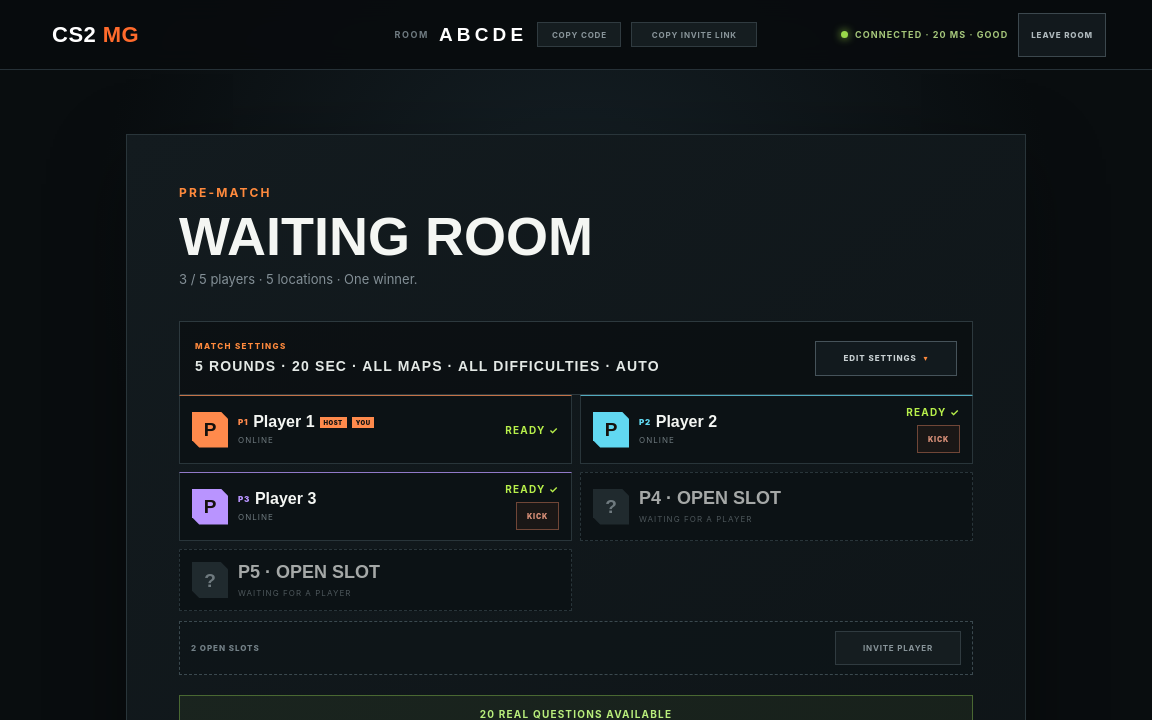
Test: RoomPage multiplayer lobby wiring › asks for confirmation and sends one player:kick request for the selected target
Click the button named "Kick Player 2". click: (938, 439)
box: [917, 425, 960, 453]
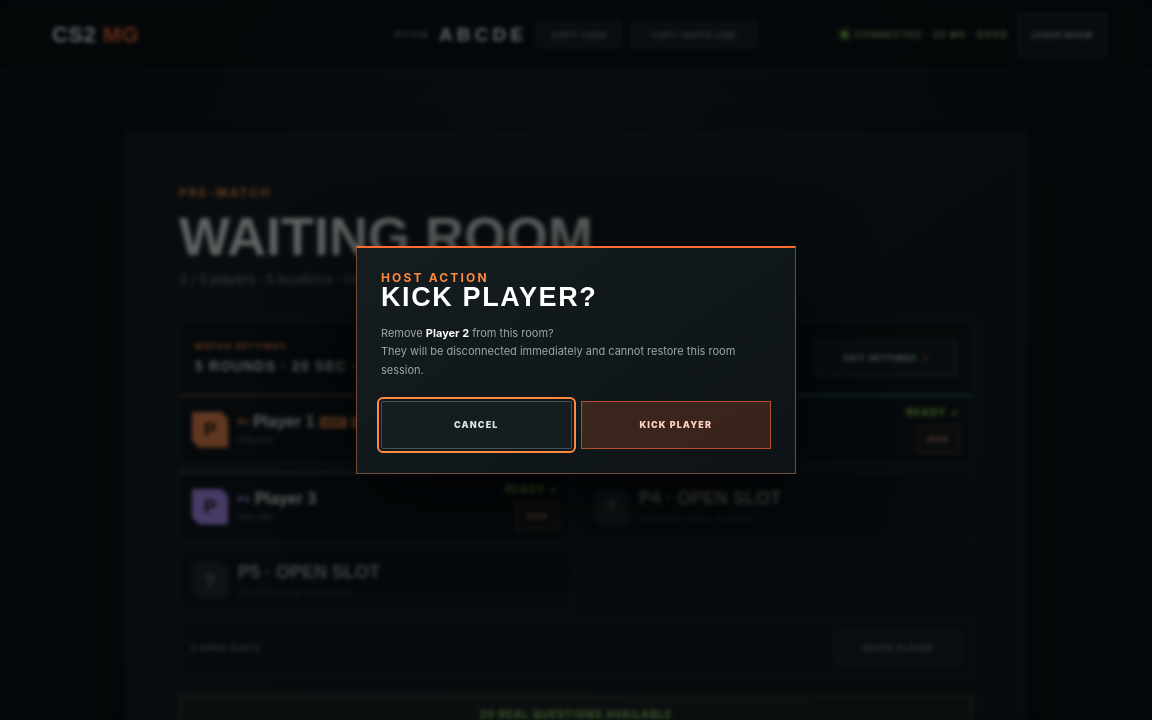
Expected: the dialog "KICK PLAYER?" shows "Remove Player 2 from this room?", [356, 246, 796, 474]
Double-click the button "KICK PLAYER" at (676, 425), box [580, 401, 771, 449]
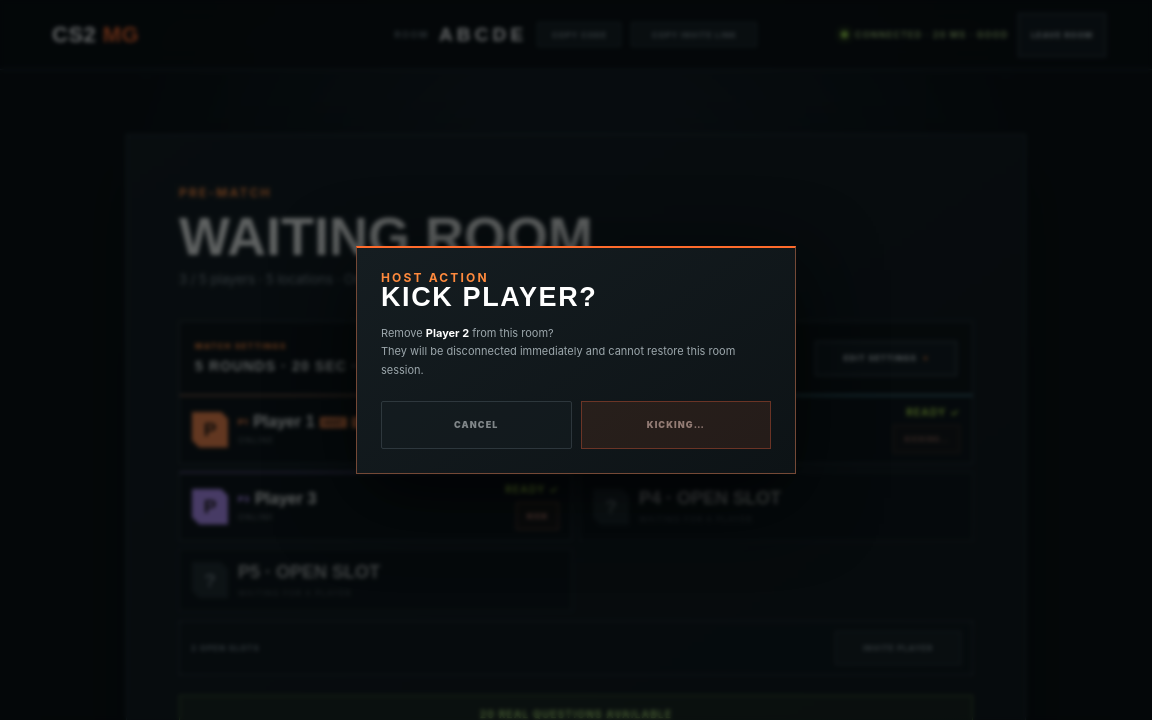
Expected: the button "KICKING…" is shown, [580, 401, 771, 449]
